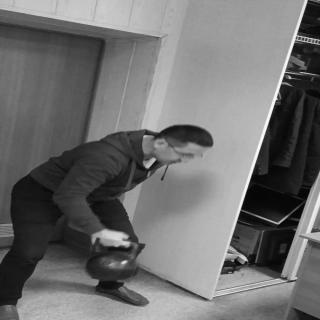kettlebell: (85, 240, 144, 283)
